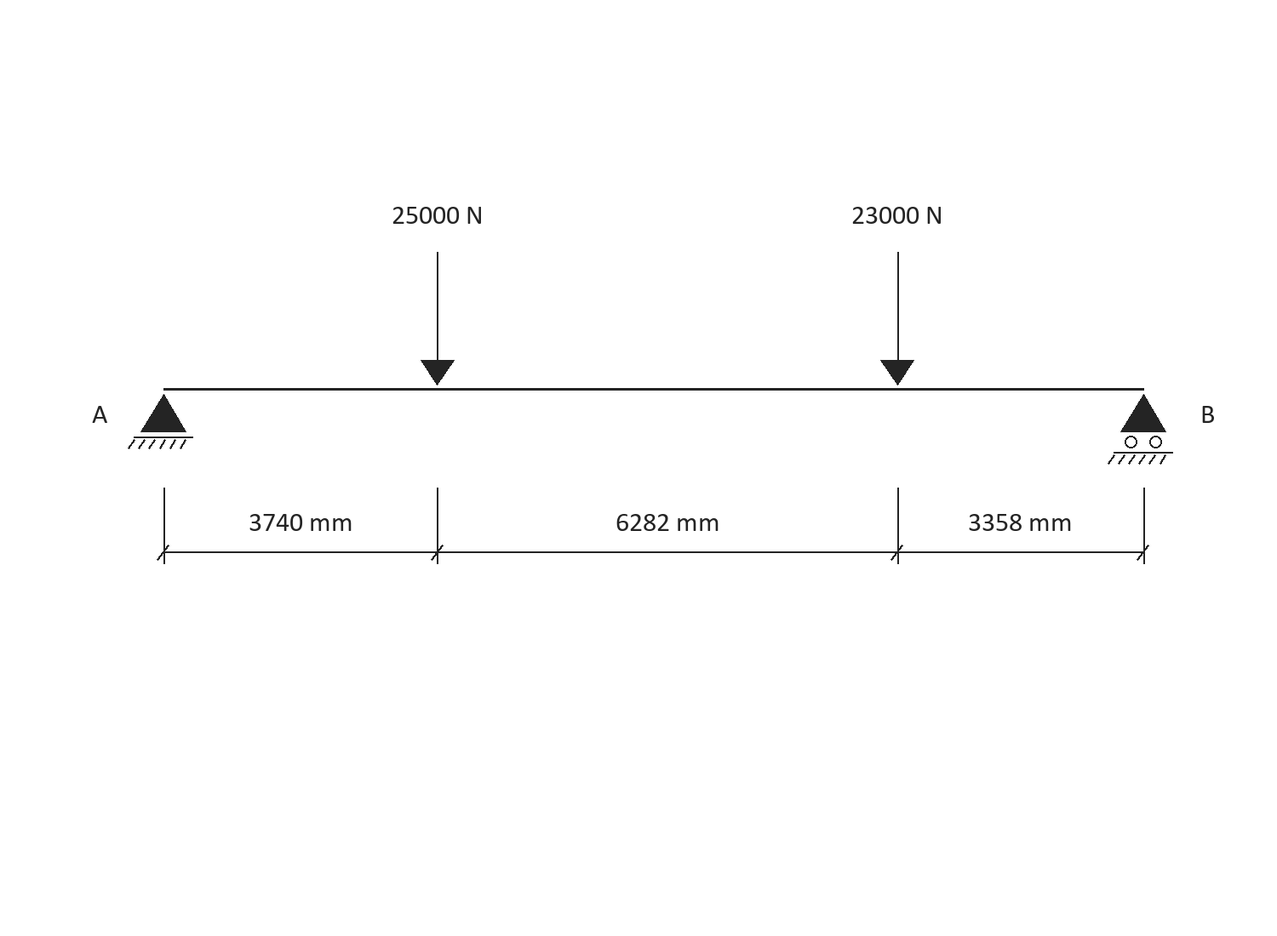pin_support: (128, 394, 193, 449)
point_load: (421, 252, 455, 385), (880, 252, 914, 385)
roller_support: (1108, 394, 1173, 465)
